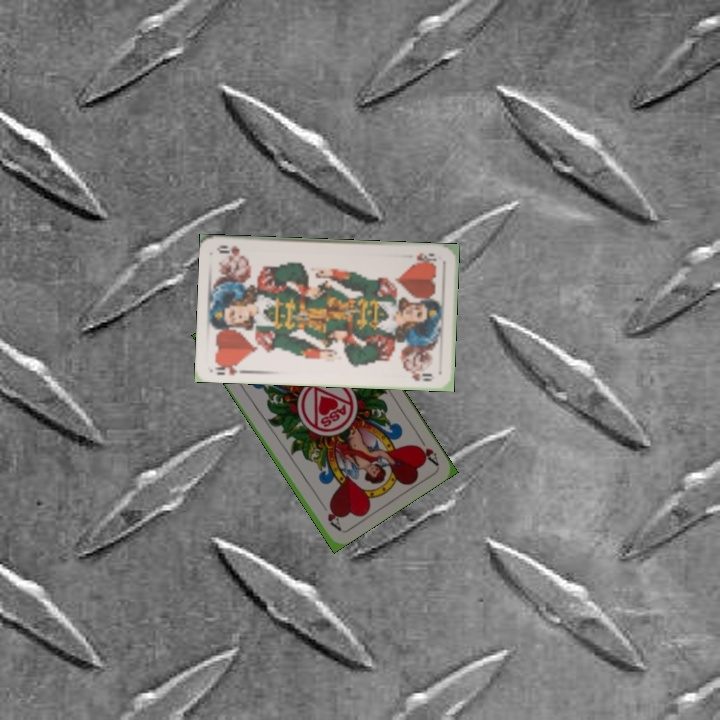HA: (412, 431, 441, 467)
HO: (211, 358, 250, 378), (413, 249, 439, 265)
